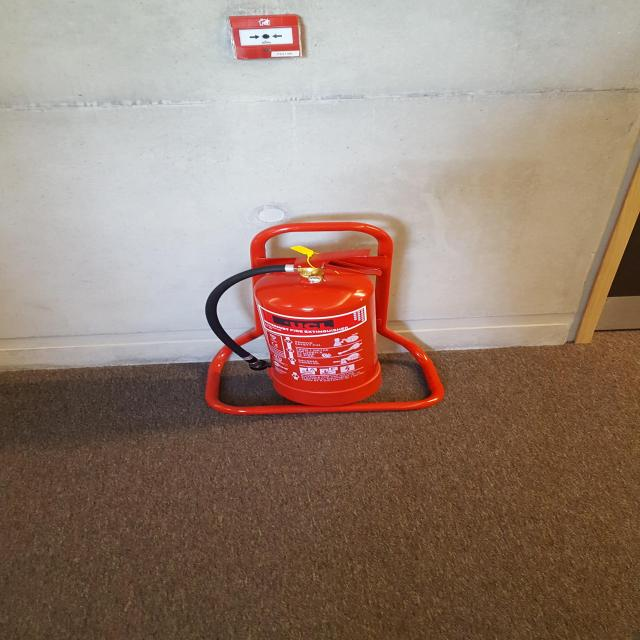fire_extinguisher: (202, 244, 390, 411)
